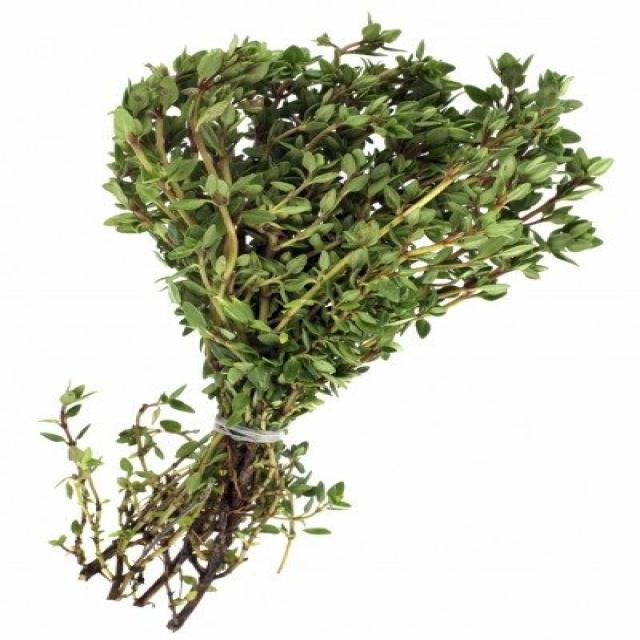Thyme: (59, 24, 563, 622)
